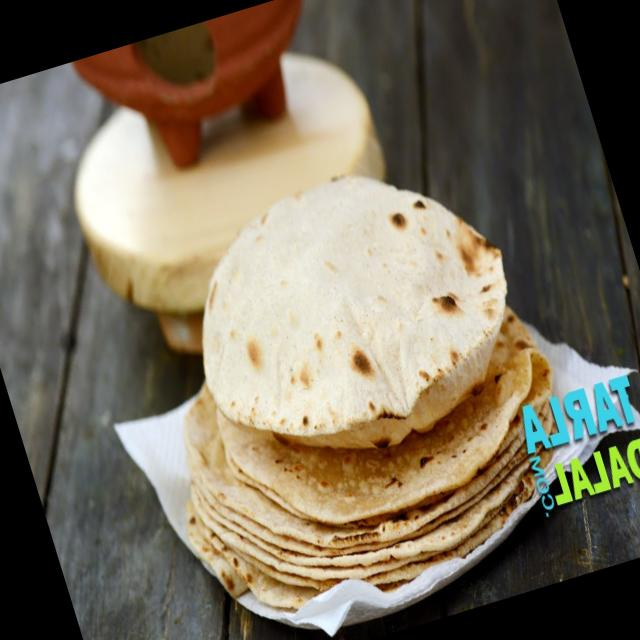roti: (181, 165, 557, 603)
